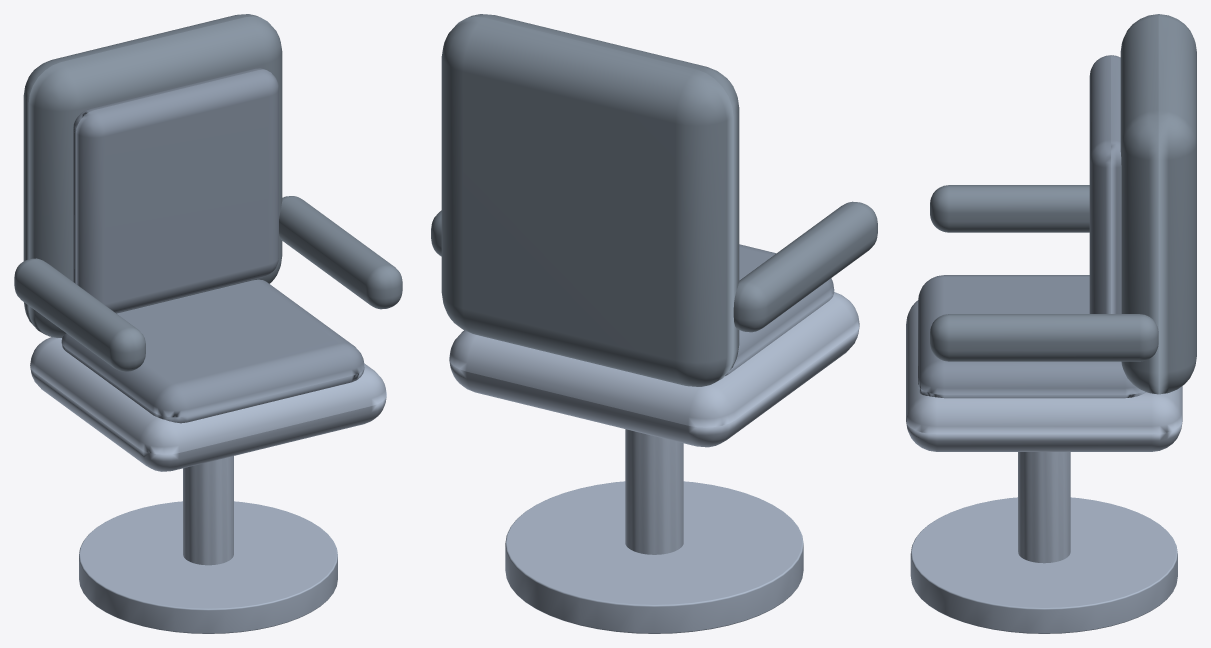
File: chair.glb
3 views of the same model, side by side, from view 1: azimuth 30°, elevation 25°; view 2: azimuth 150°, elevation 25°; view 3: azimuth 270°, elevation 25° (orthographic). The views are drawn at different scales.
Visible parts, largest first — view 1: orbital-observation-deck chair; view 2: orbital-observation-deck chair; view 3: orbital-observation-deck chair.
Part boxes in pixels (x1=…): orbital-observation-deck chair: x1=14, y1=14, x2=402, y2=633; orbital-observation-deck chair: x1=431, y1=14, x2=877, y2=633; orbital-observation-deck chair: x1=906, y1=14, x2=1196, y2=633.
Size of the model in its own units: 0.725 by 1.19 by 0.61.
